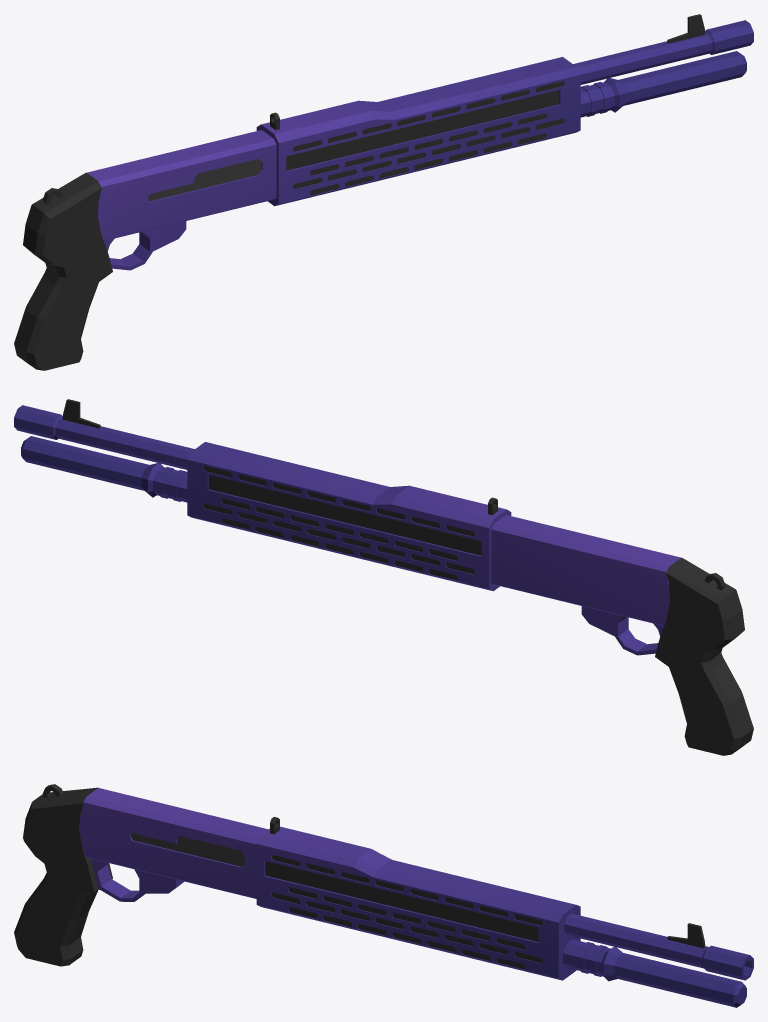
File: Shotgun5_04.fbx
3 renders of one model, top to bottom at view 1: azimuth 30°, elevation 25°; view 2: azimuth 150°, elevation 25°; view 3: azimuth 330°, elevation 25°, orthographic.
Visible parts, largest first — view 1: Shotgun5_04; view 2: Shotgun5_04; view 3: Shotgun5_04.
Boxes of the visible parts, x1,y1,x2,y2 form: Shotgun5_04: (14,14,753,370); Shotgun5_04: (14,399,753,755); Shotgun5_04: (14,784,753,1007).
Size of the model in its own units: 0.8358 by 0.2102 by 0.0437.
